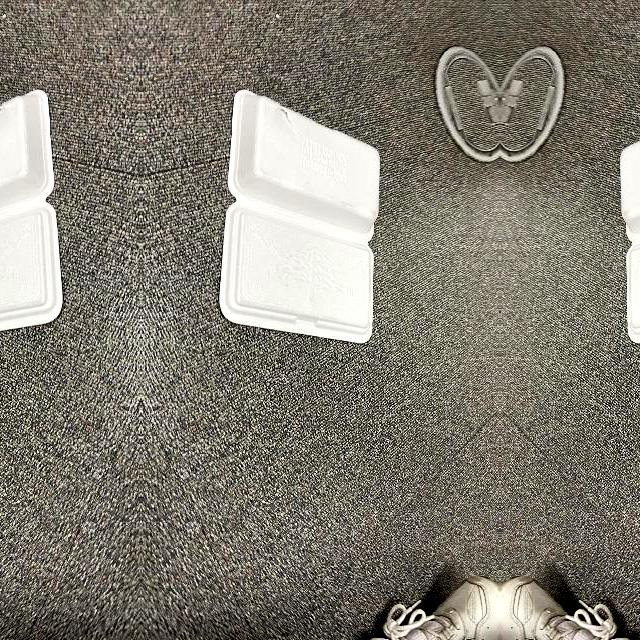Styrofoam: (217, 90, 381, 346), (218, 90, 378, 343), (0, 90, 63, 345), (0, 90, 62, 331)
